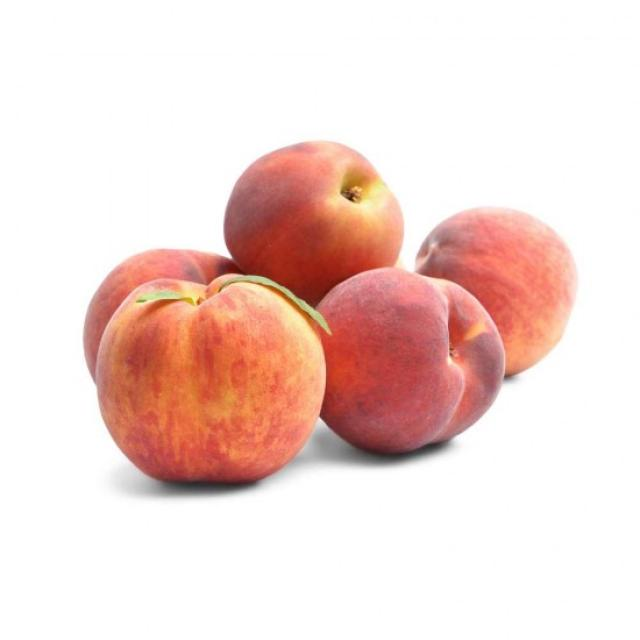peach: (97, 276, 326, 482), (315, 268, 507, 456), (225, 142, 405, 306), (415, 207, 581, 378)
